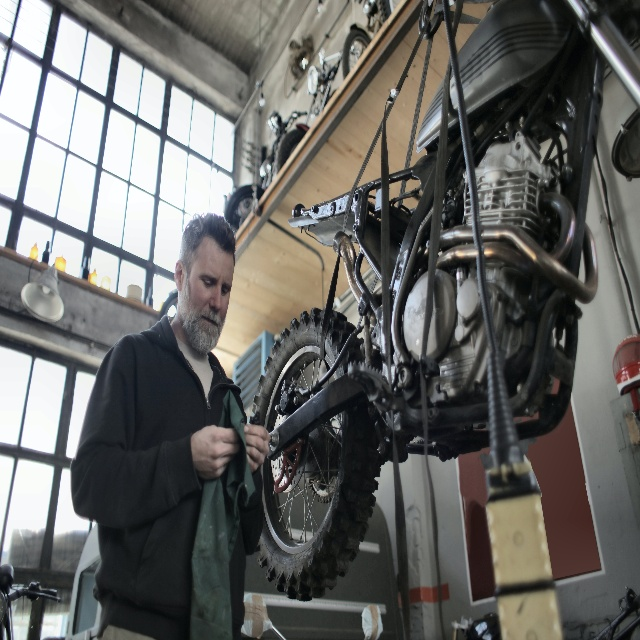Sin_guantes: (190, 426, 240, 480), (244, 423, 271, 473)
